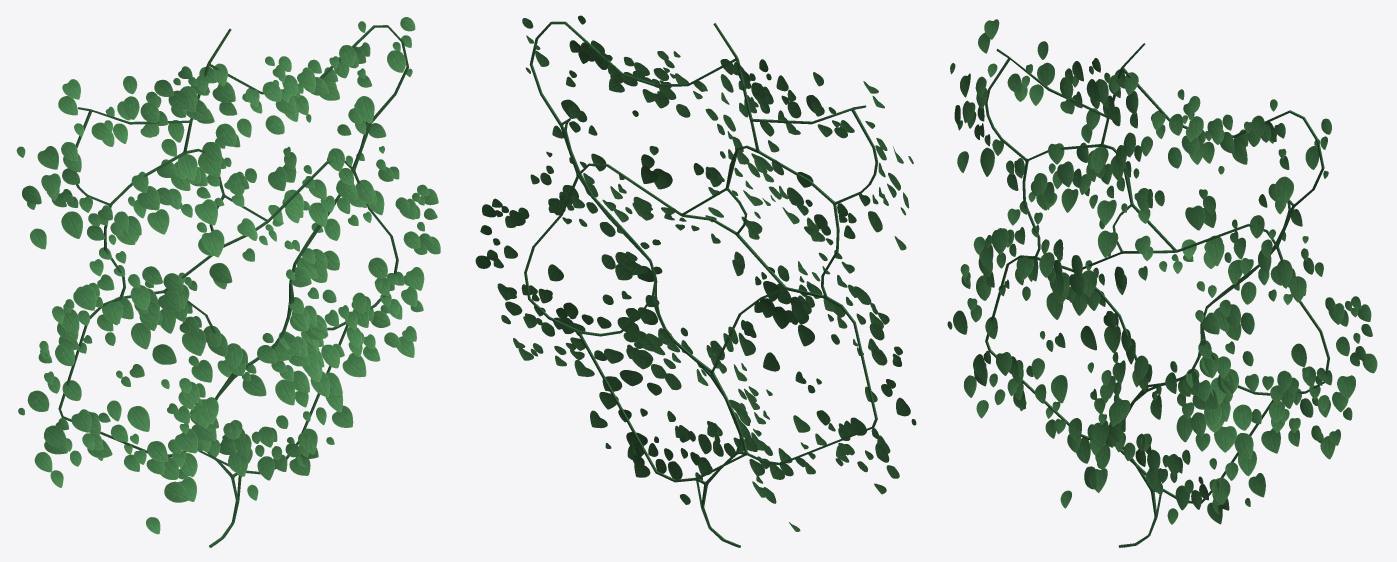
The model's file is ivyVinesTest1.fbx.
3 views of the same model, side by side, from view 1: azimuth 30°, elevation 25°; view 2: azimuth 150°, elevation 25°; view 3: azimuth 330°, elevation 25° (orthographic). The views are drawn at different scales.
Parts seen in each view (by area): view 1: ivyTest1, vineTest1; view 2: ivyTest1, vineTest1; view 3: ivyTest1, vineTest1.
Boxes of the visible parts, bbox=[...] form: ivyTest1: bbox=[16, 17, 440, 534]; vineTest1: bbox=[58, 25, 408, 547]; ivyTest1: bbox=[475, 15, 916, 531]; vineTest1: bbox=[524, 21, 878, 547]; ivyTest1: bbox=[947, 19, 1377, 524]; vineTest1: bbox=[985, 43, 1329, 547].
Size of the model in its own units: 1417 by 1605 by 165.
Materials: 1 (1 with a texture image).
